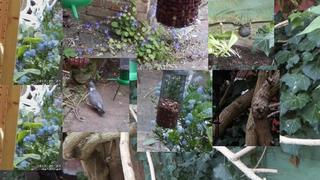sparrow: (234, 24, 250, 39)
wood pigeon: (88, 82, 105, 115)
